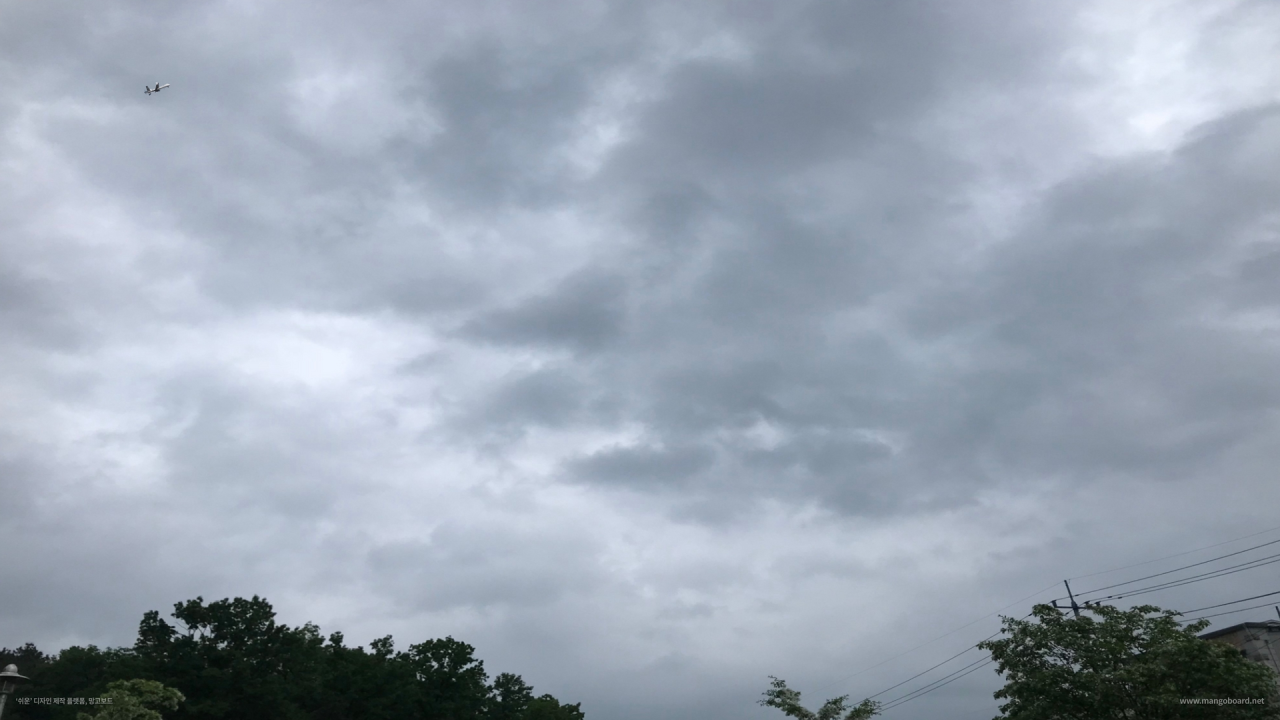military drone: (143, 80, 171, 96)
